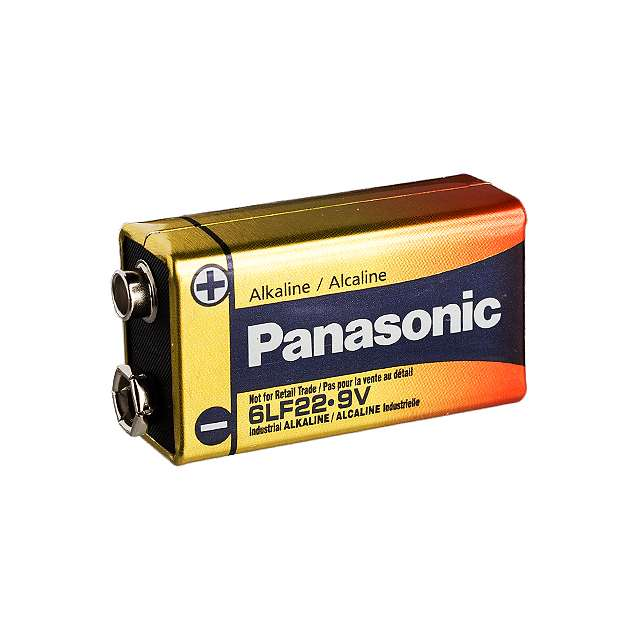9V: (99, 170, 543, 468)
